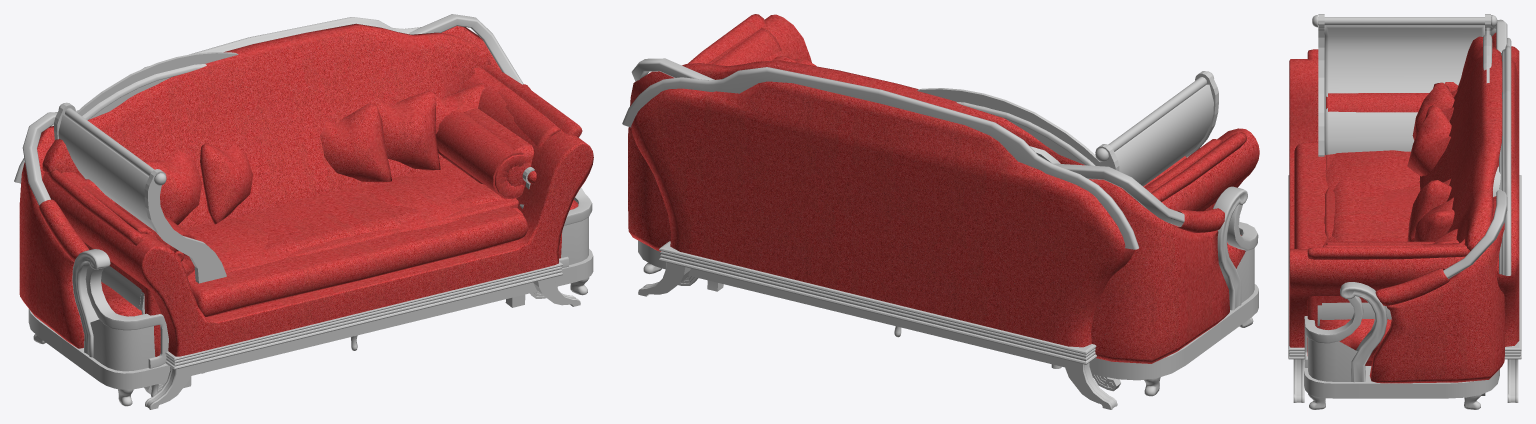
Rendered from Couch.fbx.
3 views of the same model, side by side, from view 1: azimuth 30°, elevation 25°; view 2: azimuth 150°, elevation 25°; view 3: azimuth 270°, elevation 25° (orthographic). The views are drawn at different scales.
Visible parts, largest first — view 1: couch5_MSH, couch2_MSH, couch4_MSH, couch6_MSH, couch3_MSH; view 2: couch5_MSH, couch2_MSH, couch6_MSH, couch4_MSH, couch3_MSH; view 3: couch5_MSH, couch2_MSH, couch6_MSH, couch4_MSH, couch3_MSH.
Boxes of the visible parts, left/top/right/bottom form: couch5_MSH: left=14, top=17, right=593, bottom=409; couch2_MSH: left=19, top=14, right=593, bottom=406; couch4_MSH: left=47, top=64, right=582, bottom=396; couch6_MSH: left=54, top=52, right=536, bottom=373; couch3_MSH: left=82, top=88, right=560, bottom=394; couch5_MSH: left=622, top=14, right=1259, bottom=409; couch2_MSH: left=628, top=58, right=1258, bottom=396; couch6_MSH: left=772, top=56, right=1218, bottom=368; couch4_MSH: left=687, top=14, right=1246, bottom=337; couch3_MSH: left=678, top=28, right=1222, bottom=391; couch5_MSH: left=1288, top=36, right=1521, bottom=402; couch2_MSH: left=1304, top=19, right=1507, bottom=409; couch6_MSH: left=1312, top=14, right=1497, bottom=241; couch4_MSH: left=1307, top=49, right=1470, bottom=365; couch3_MSH: left=1317, top=93, right=1485, bottom=395.
Size of the model in its own units: 329 by 155 by 147.
